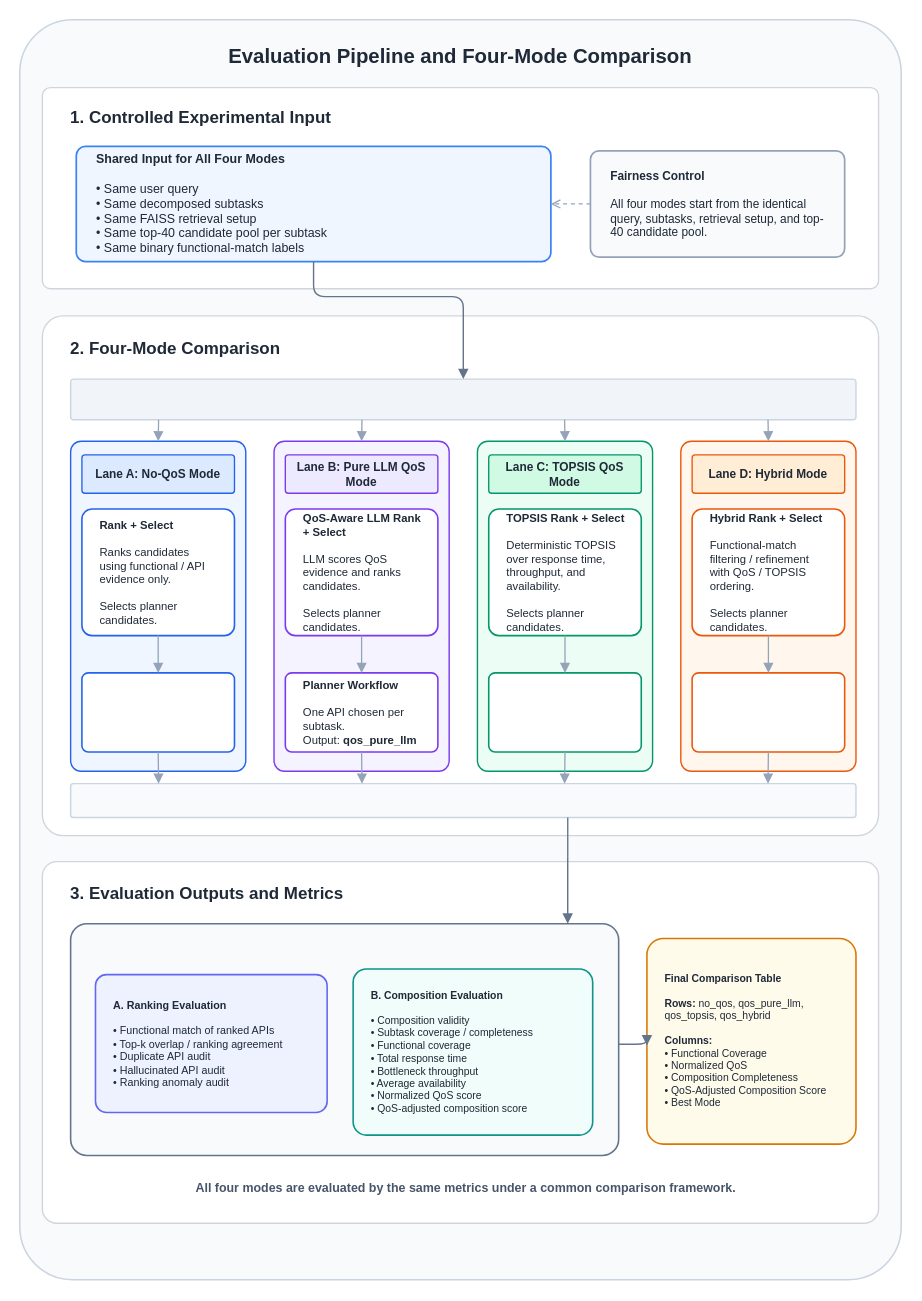
Image size: 922x1301. Some labels were removed from this diagram. The shapes that lost their labels are listed below. From the top down, each one's box as (x1, y1, x2, y2) in pixels, then its label:
(69, 378, 856, 420): Identical experimental setup distributed to each mode
(81, 672, 235, 752): Planner Workflow One API chosen per subtask. Output: no_qos
(487, 672, 642, 752): Planner Workflow One API chosen per subtask. Output: qos_topsis
(691, 672, 845, 752): Planner Workflow One API chosen per subtask. Output: qos_hybrid
(69, 782, 856, 818): Workflow + ranking outputs from all four modes
(69, 922, 619, 1156): Common Evaluation Stage
